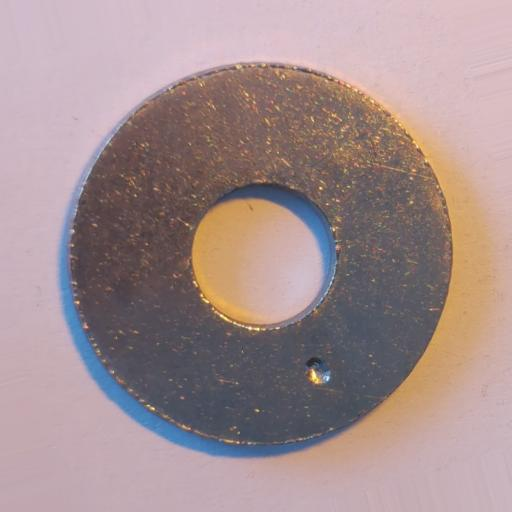circular_cavity: (303, 356, 333, 385)
